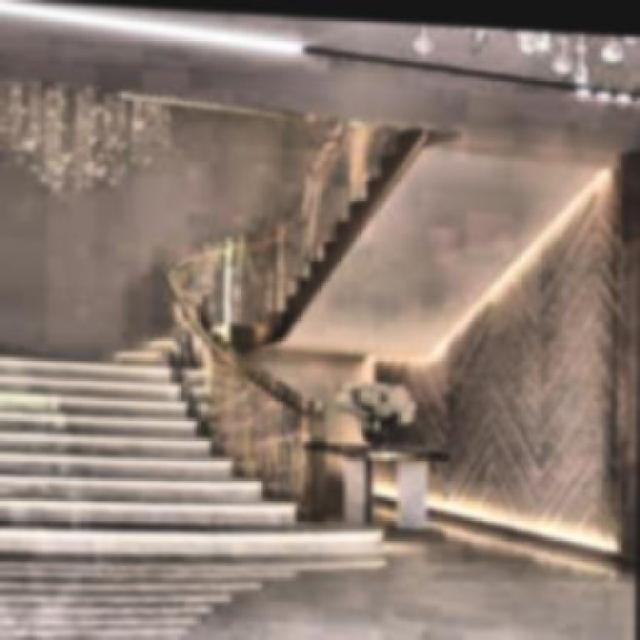stair: (0, 350, 392, 581)
